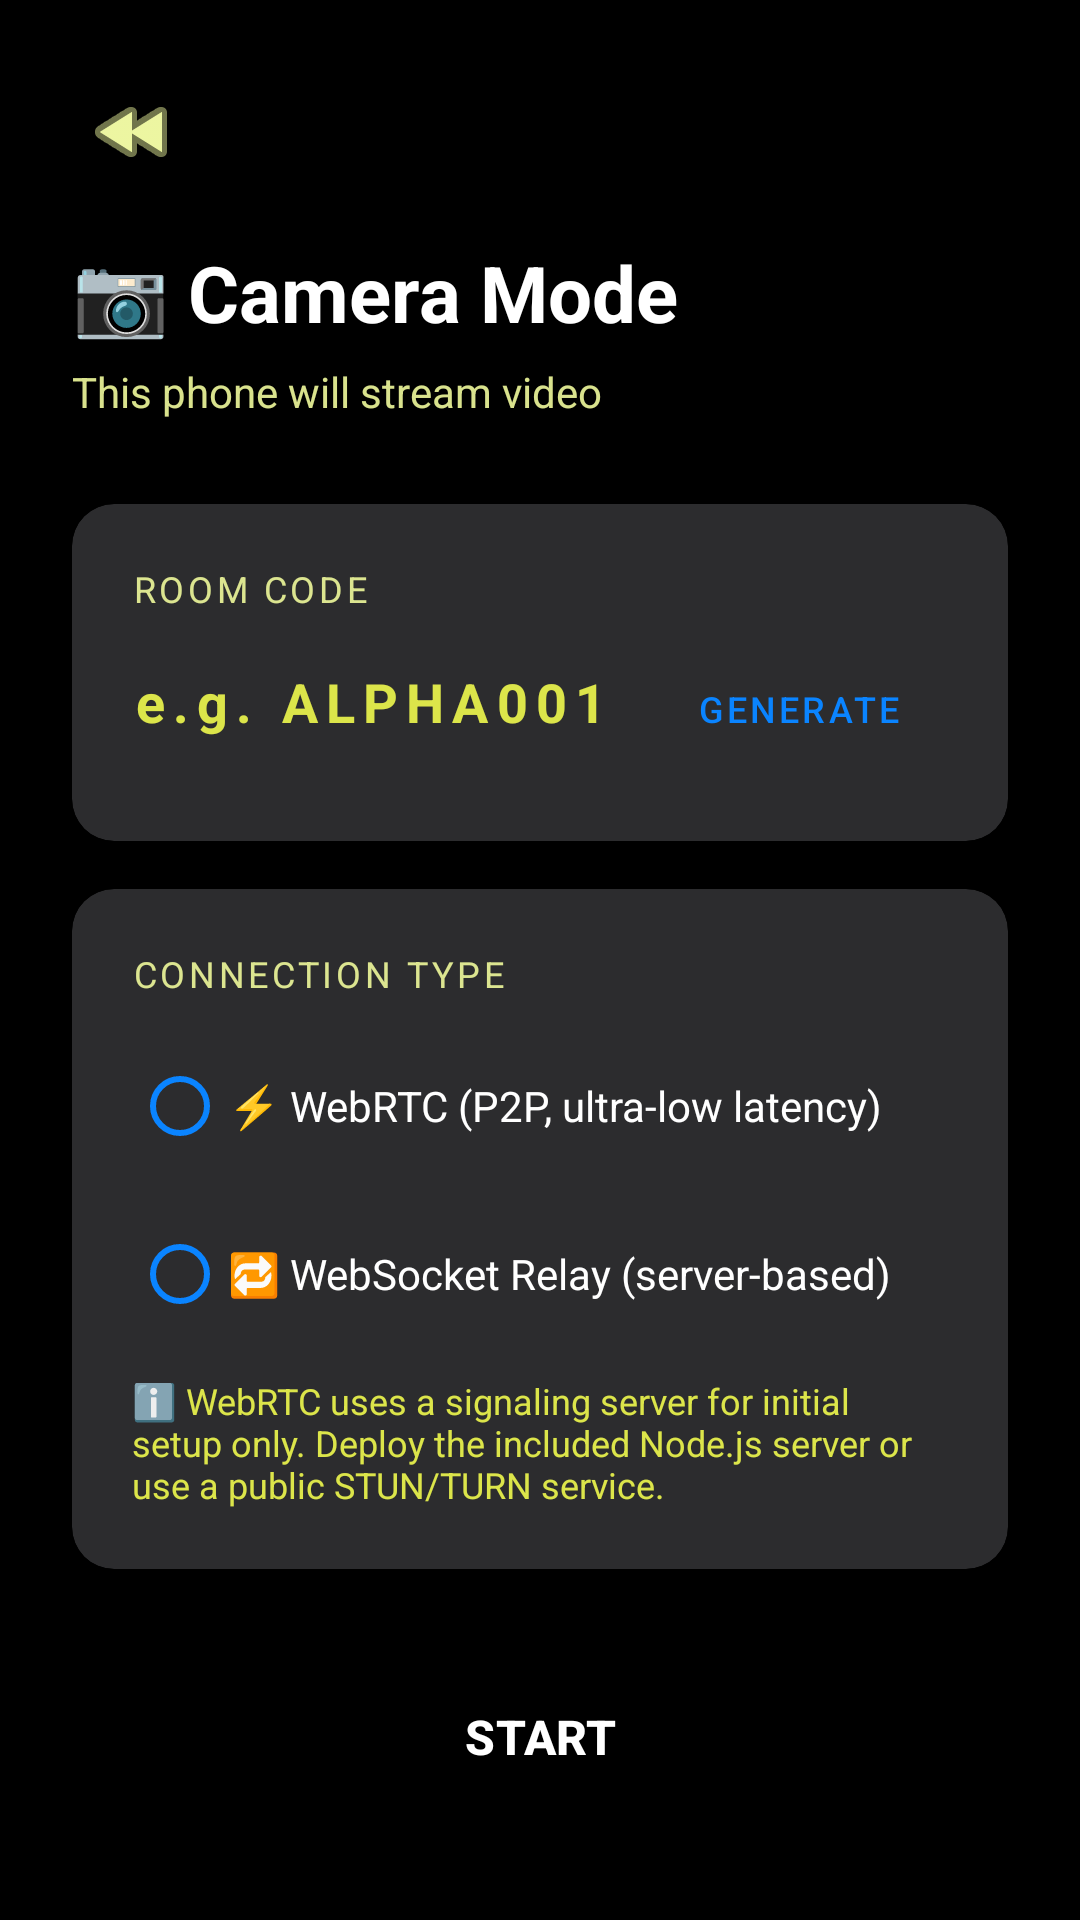

Icon bounding boxes for this 1080 x 1920 phone screenshot, format detection(x1, y1, x2, y2):
Back: detection(95, 107, 167, 157)
